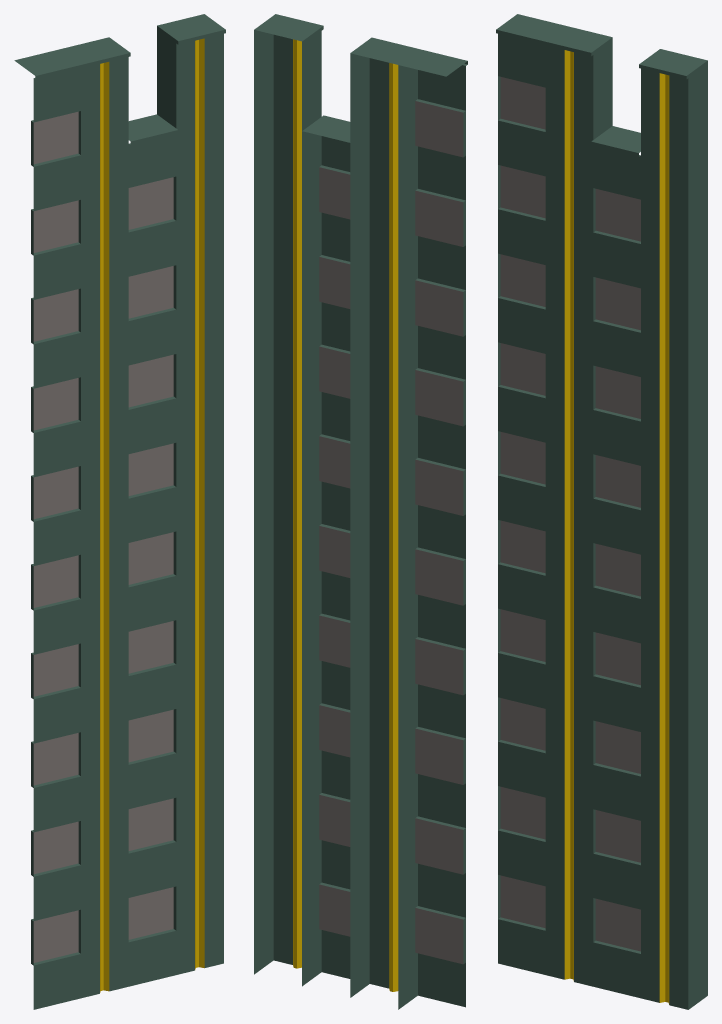
3 views of the same model, side by side, from view 1: azimuth 30°, elevation 25°; view 2: azimuth 150°, elevation 25°; view 3: azimuth 330°, elevation 25° (orthographic).
Visible parts, largest first — view 1: Column.030; view 2: Column.030; view 3: Column.030.
Part boxes in pixels (x1,y1,x2,y2): Column.030: (14,14,225,1009); Column.030: (254,14,467,1009); Column.030: (496,14,707,1009).
Size of the model in its own units: 1114 by 5230 by 217.
